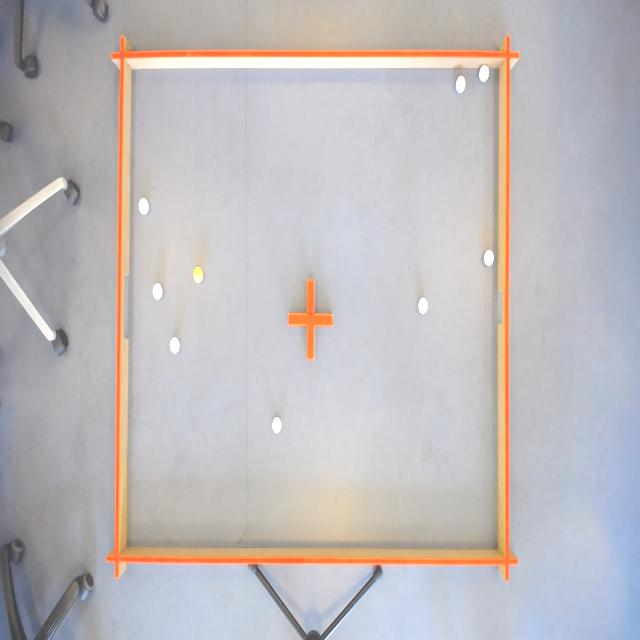cross: (287, 275, 335, 364)
orange_ball: (192, 265, 204, 285)
white_ball: (477, 62, 491, 86), (168, 333, 182, 357), (271, 412, 283, 438), (138, 194, 150, 219), (417, 294, 429, 318), (454, 72, 466, 96), (482, 247, 495, 269), (151, 281, 164, 302)
